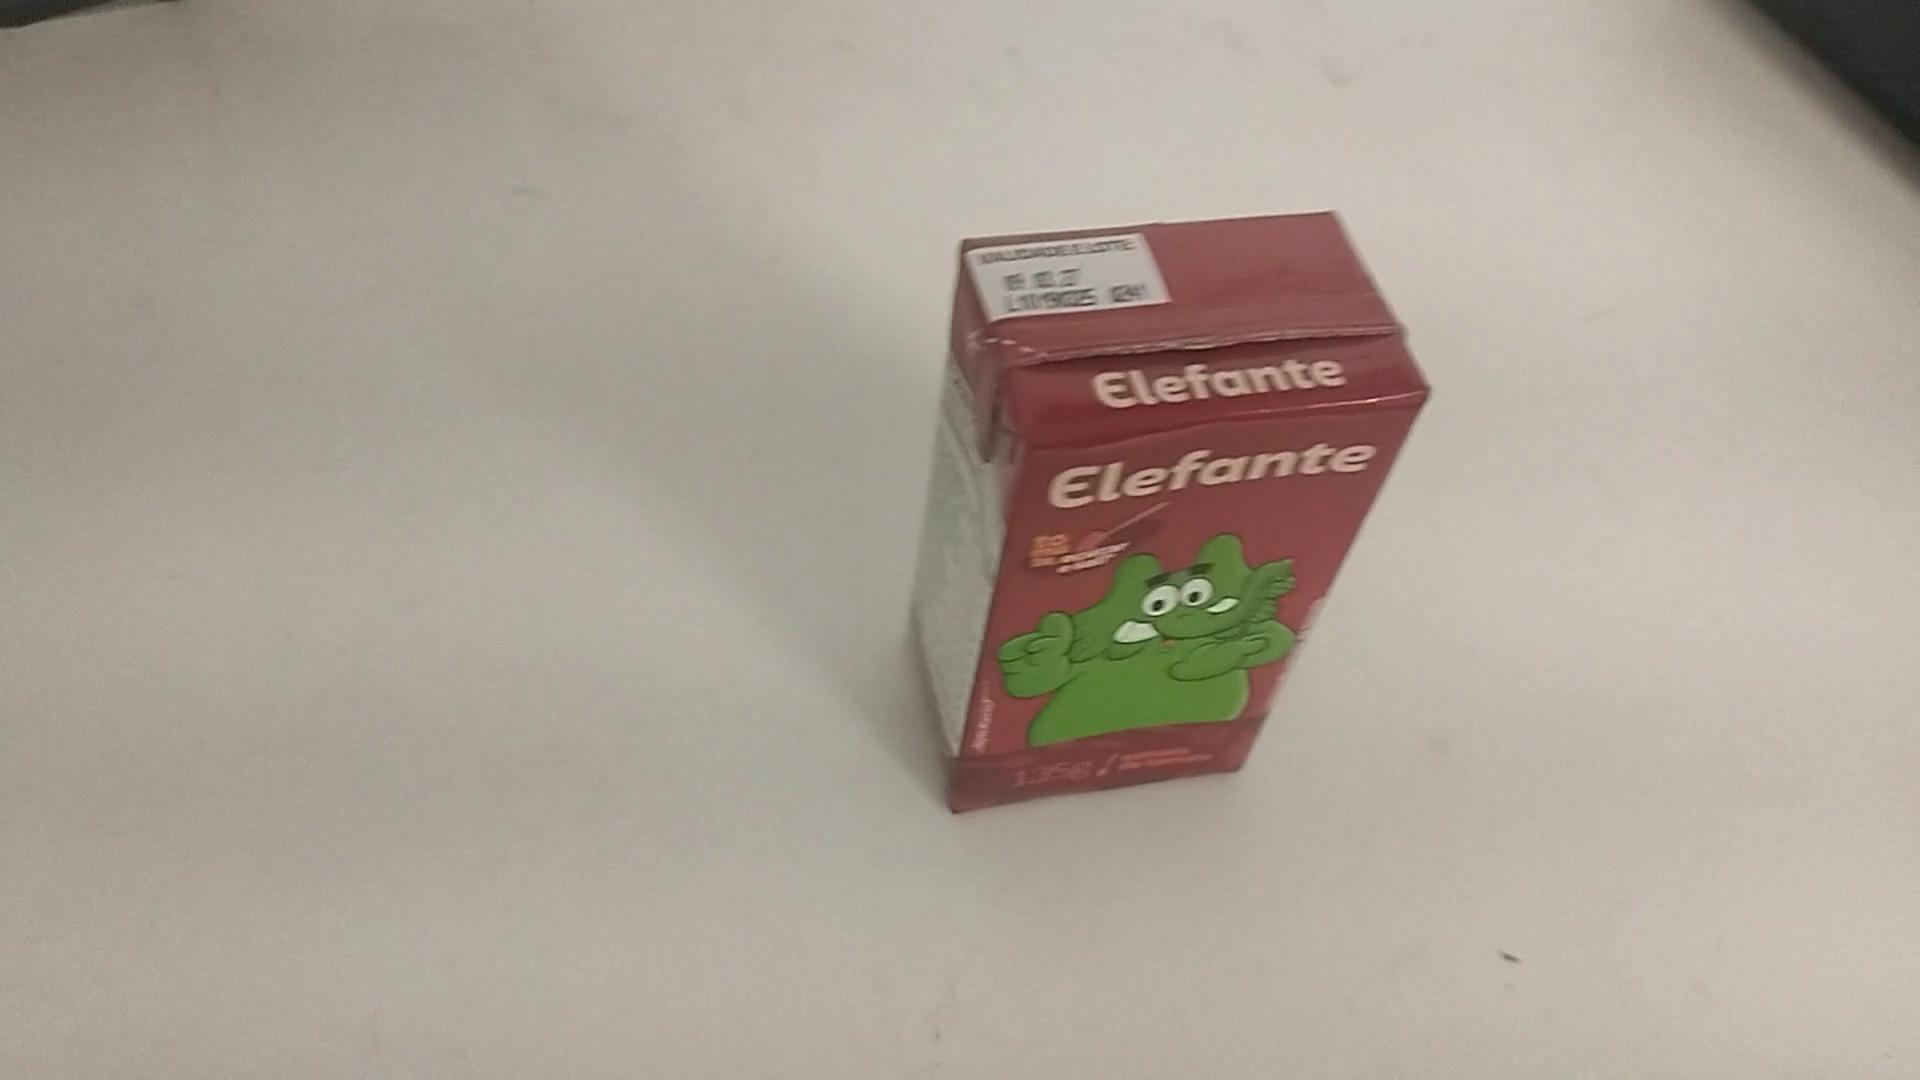tomate: (897, 200, 1436, 823)
